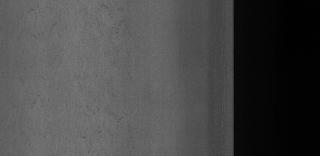silk spot: (67, 13, 147, 115)
